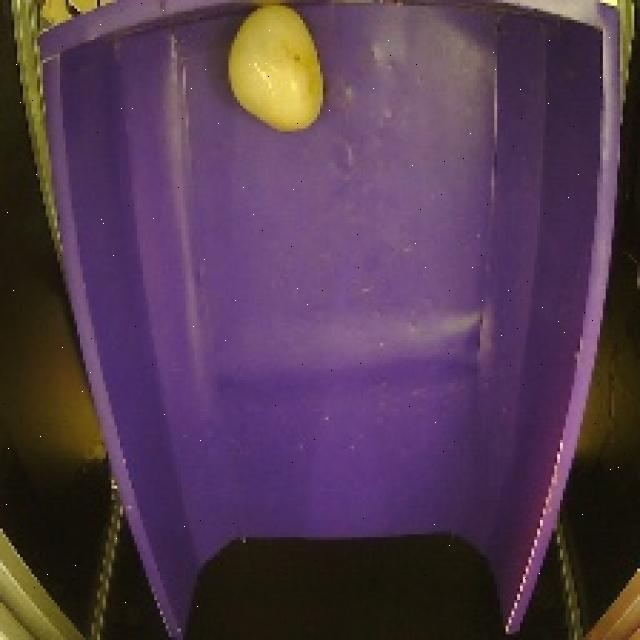cobbles: (215, 0, 336, 135)
